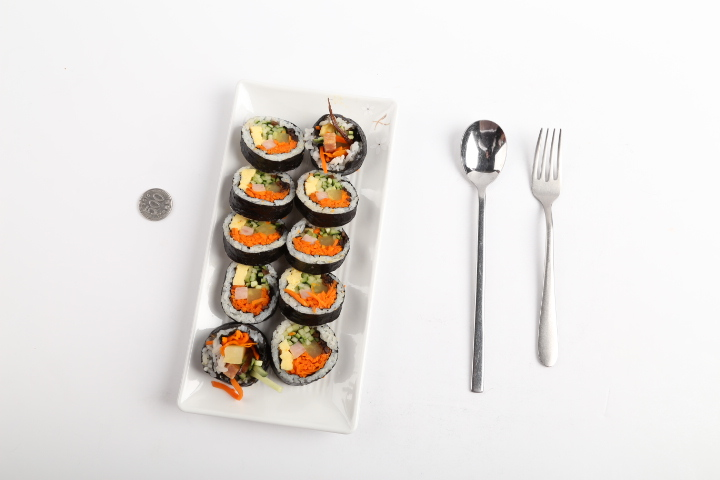dish: (177, 81, 396, 434)
ref_coin: (139, 188, 173, 220)
ref_fork: (531, 127, 561, 210)
ref_spoon: (460, 119, 507, 195)
김밥: (202, 113, 368, 386)
